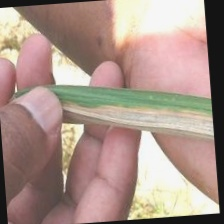Leaf_Blast: (30, 108, 204, 137)
